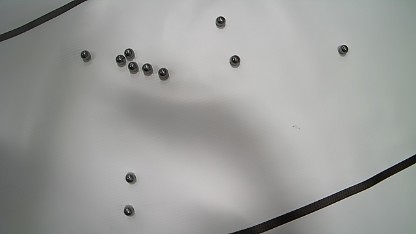ironball: (158, 67, 169, 80), (229, 54, 240, 67), (124, 48, 135, 60), (115, 54, 126, 66), (80, 50, 91, 62), (142, 63, 153, 75), (128, 61, 138, 74), (125, 172, 136, 183), (123, 205, 134, 216), (338, 44, 348, 55), (216, 16, 225, 27)
